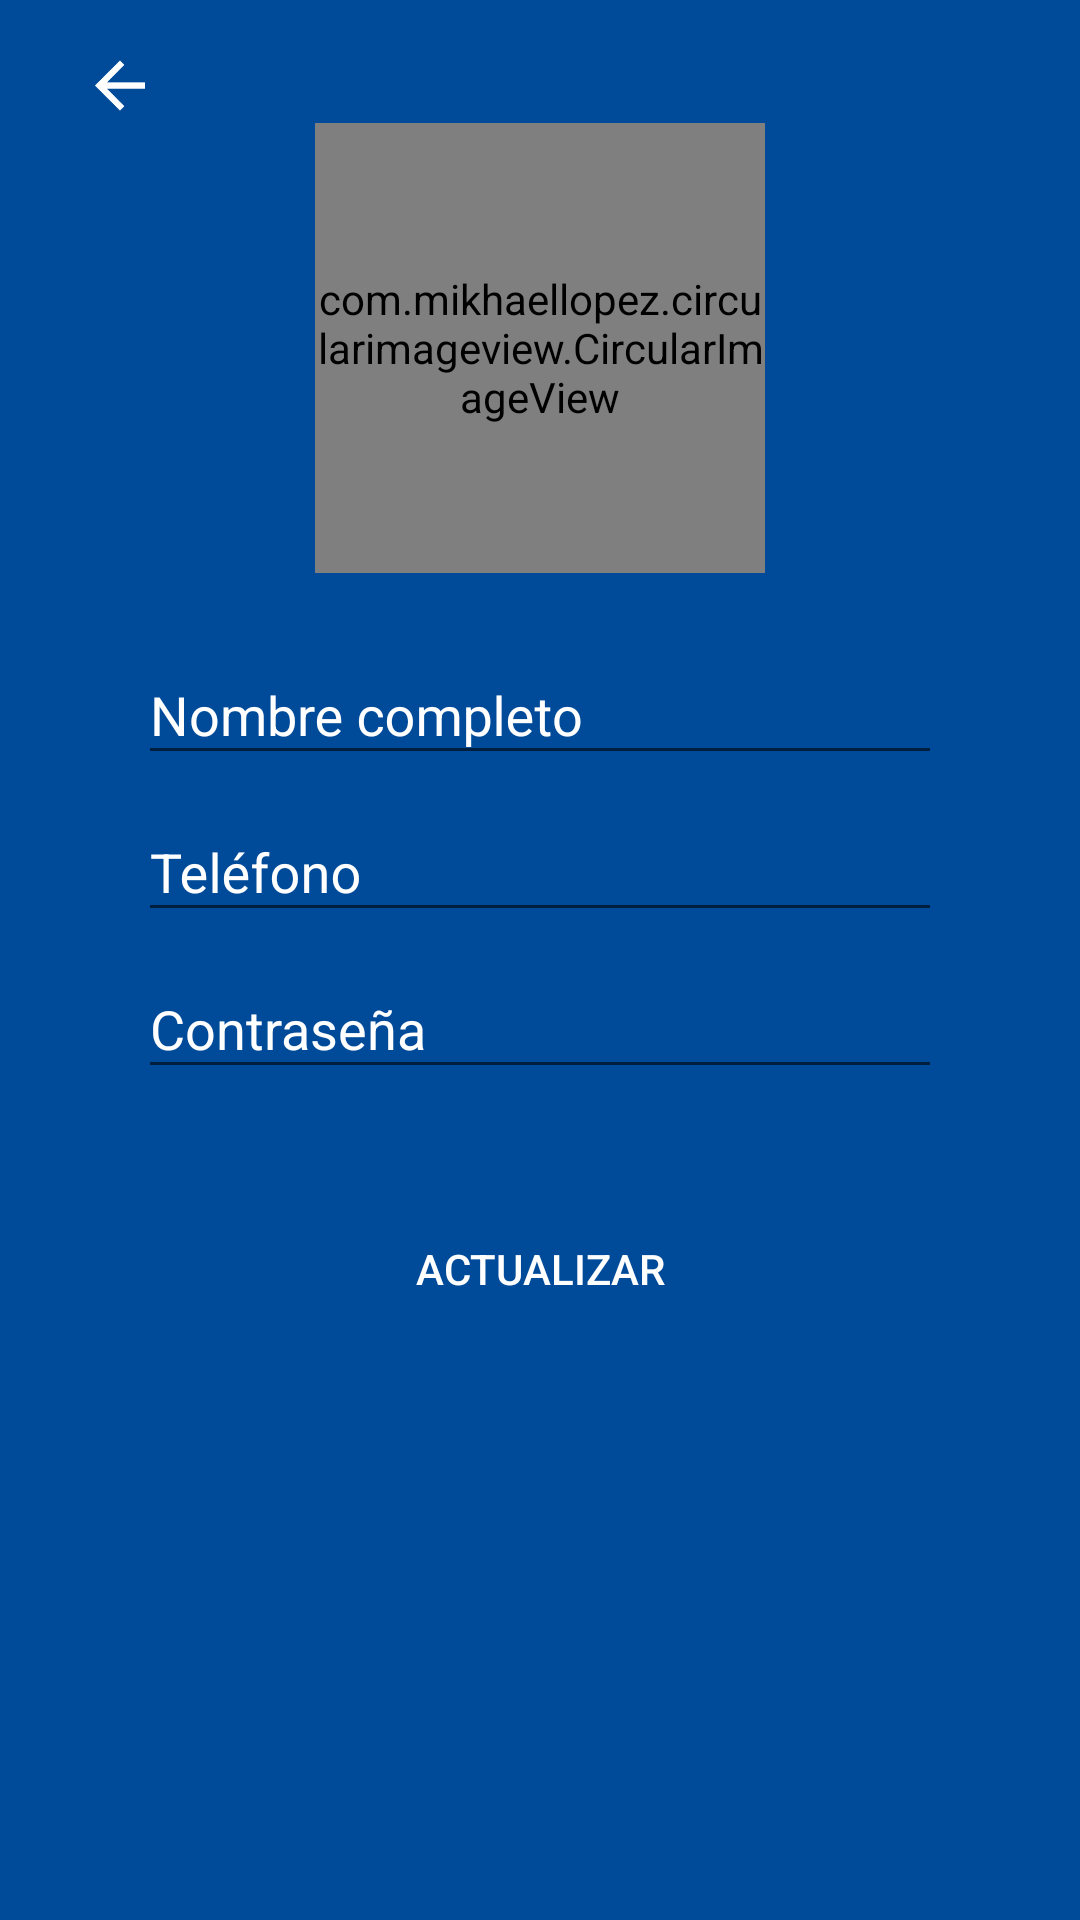

Screen size 1080px x 1920px. Icon name, then its box in pixels as (x1=x1, y1=y1, x2=x2, y2=y2):
arrow back: (x1=95, y1=60, x2=145, y2=111)
